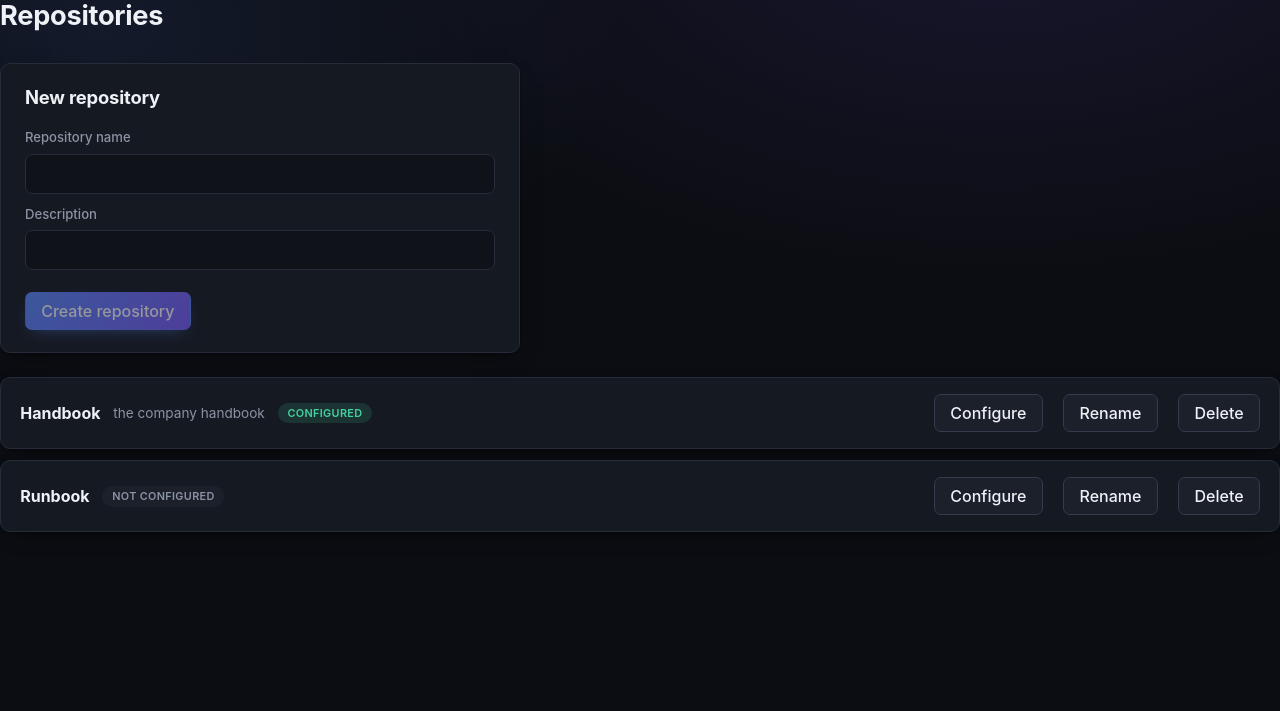
Test case: AdminRepositoriesPage — rename & delete (card #89) › renames a repository
Click the button "Rename" in the row of "Not configured" at (1110, 496), box [1063,477,1158,515]
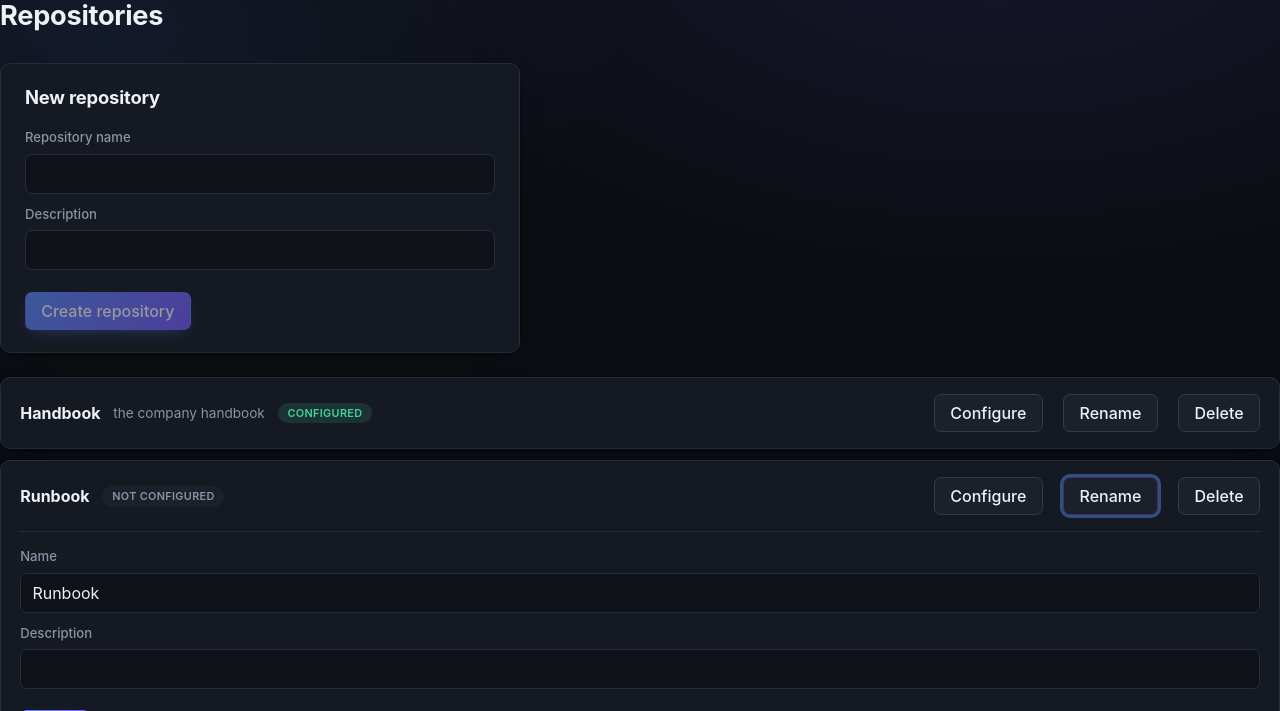
Replace the text in the field labelled "Name" with "Runbook v2" at (640, 593), box [20,573,1260,613]
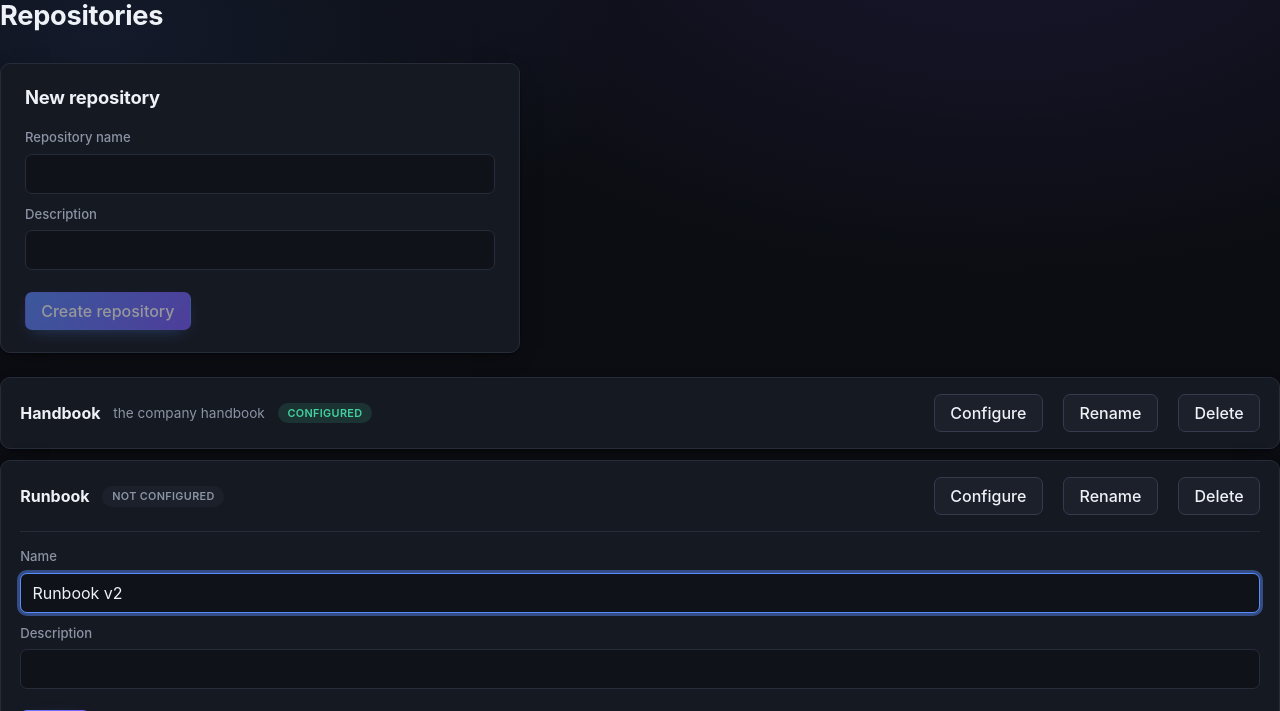
Type "ops runbook" into the field labelled "Description" below "Runbook" at (640, 669), box [20,649,1260,689]
(page scrolled)
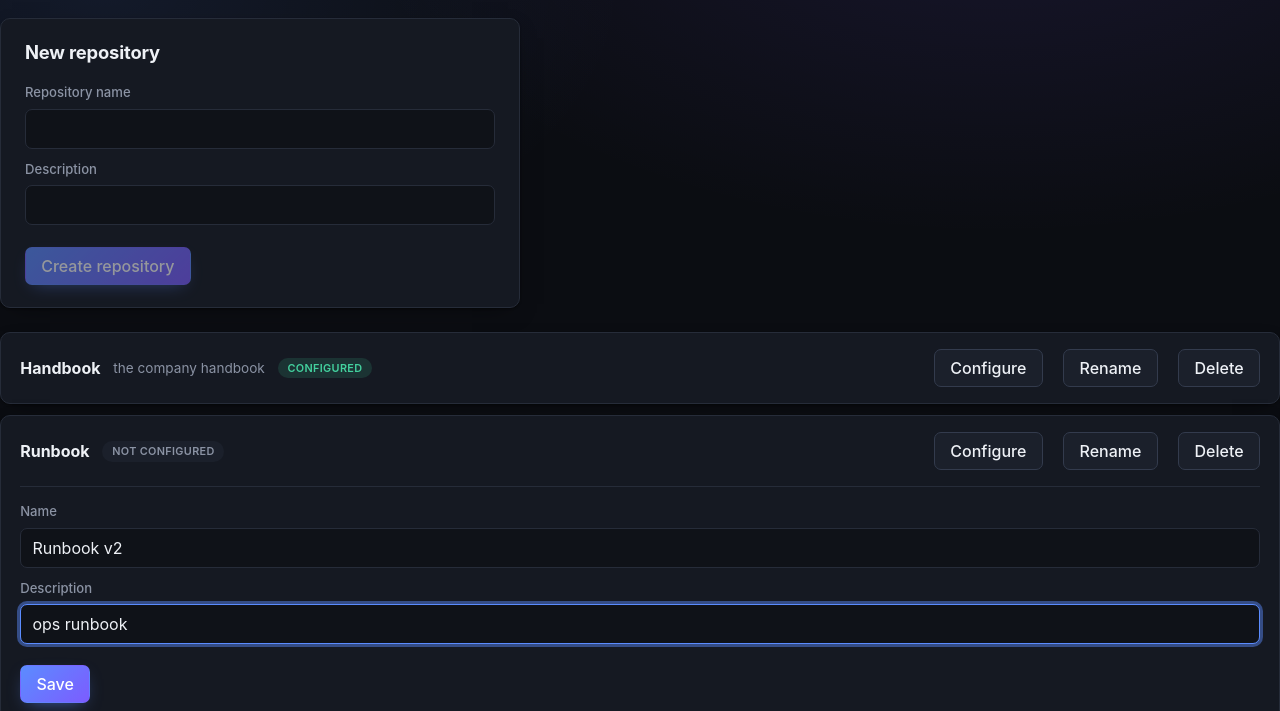
Click the button "Save" at (55, 684), box [20,666,90,704]
(page scrolled)
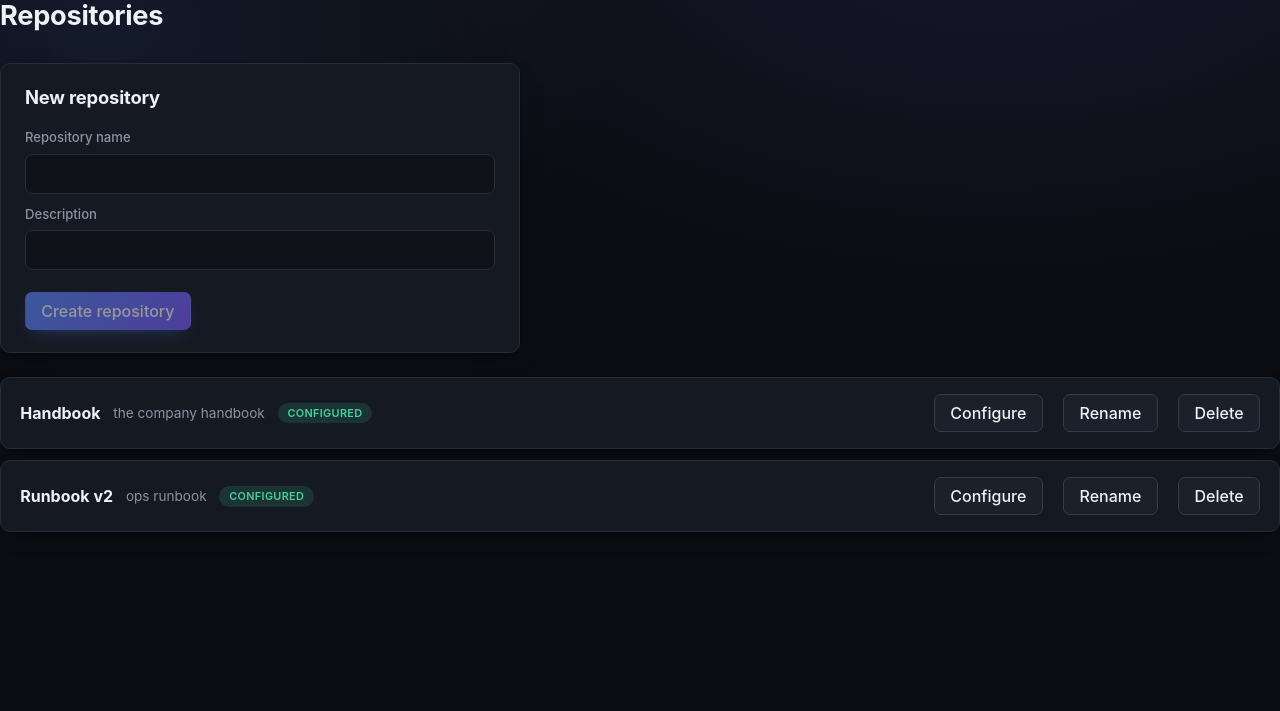
Now the text "Runbook v2" is shown, box [20,486,113,506]
